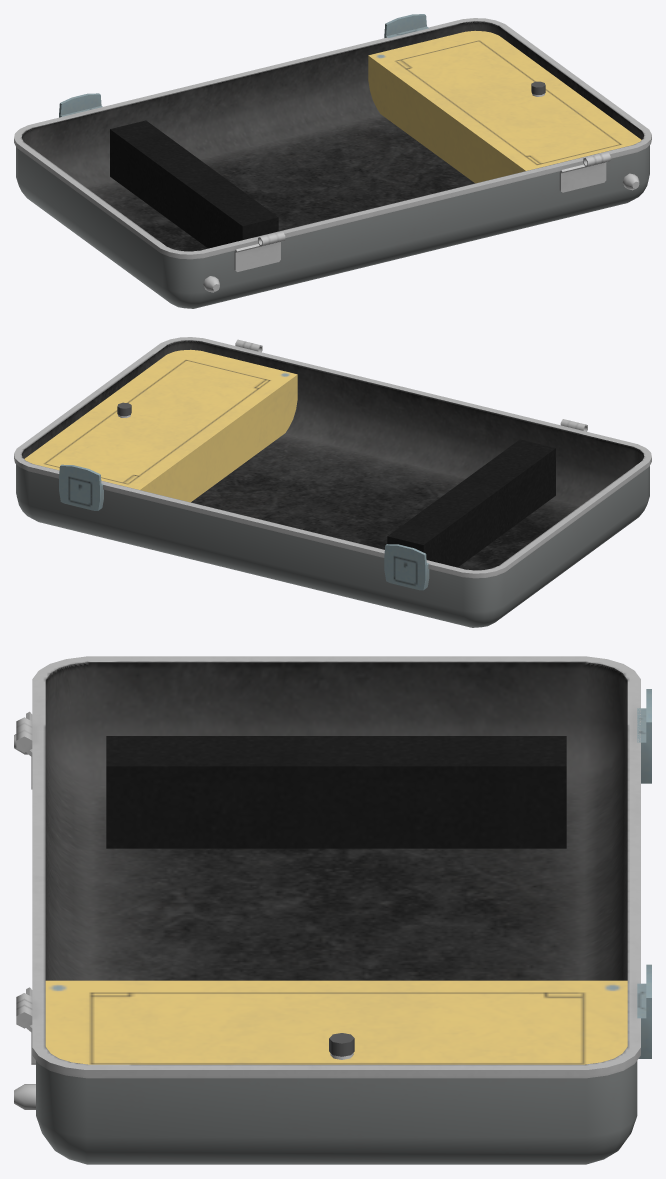
File: PolygraphCover.fbx
3 renders of one model, top to bottom at view 1: azimuth 30°, elevation 25°; view 2: azimuth 150°, elevation 25°; view 3: azimuth 270°, elevation 25°, orthographic. The views are drawn at different scales.
Parts seen in each view (by area): view 1: PolygraphCover_LOD0; view 2: PolygraphCover_LOD0; view 3: PolygraphCover_LOD0.
Part boxes in pixels (x1,y1,x2,y2): PolygraphCover_LOD0: (14,14,651,308); PolygraphCover_LOD0: (14,337,651,627); PolygraphCover_LOD0: (14,656,651,1164).
Size of what is drawn, in the model's own units: 53.74 by 8.41 by 35.02.
